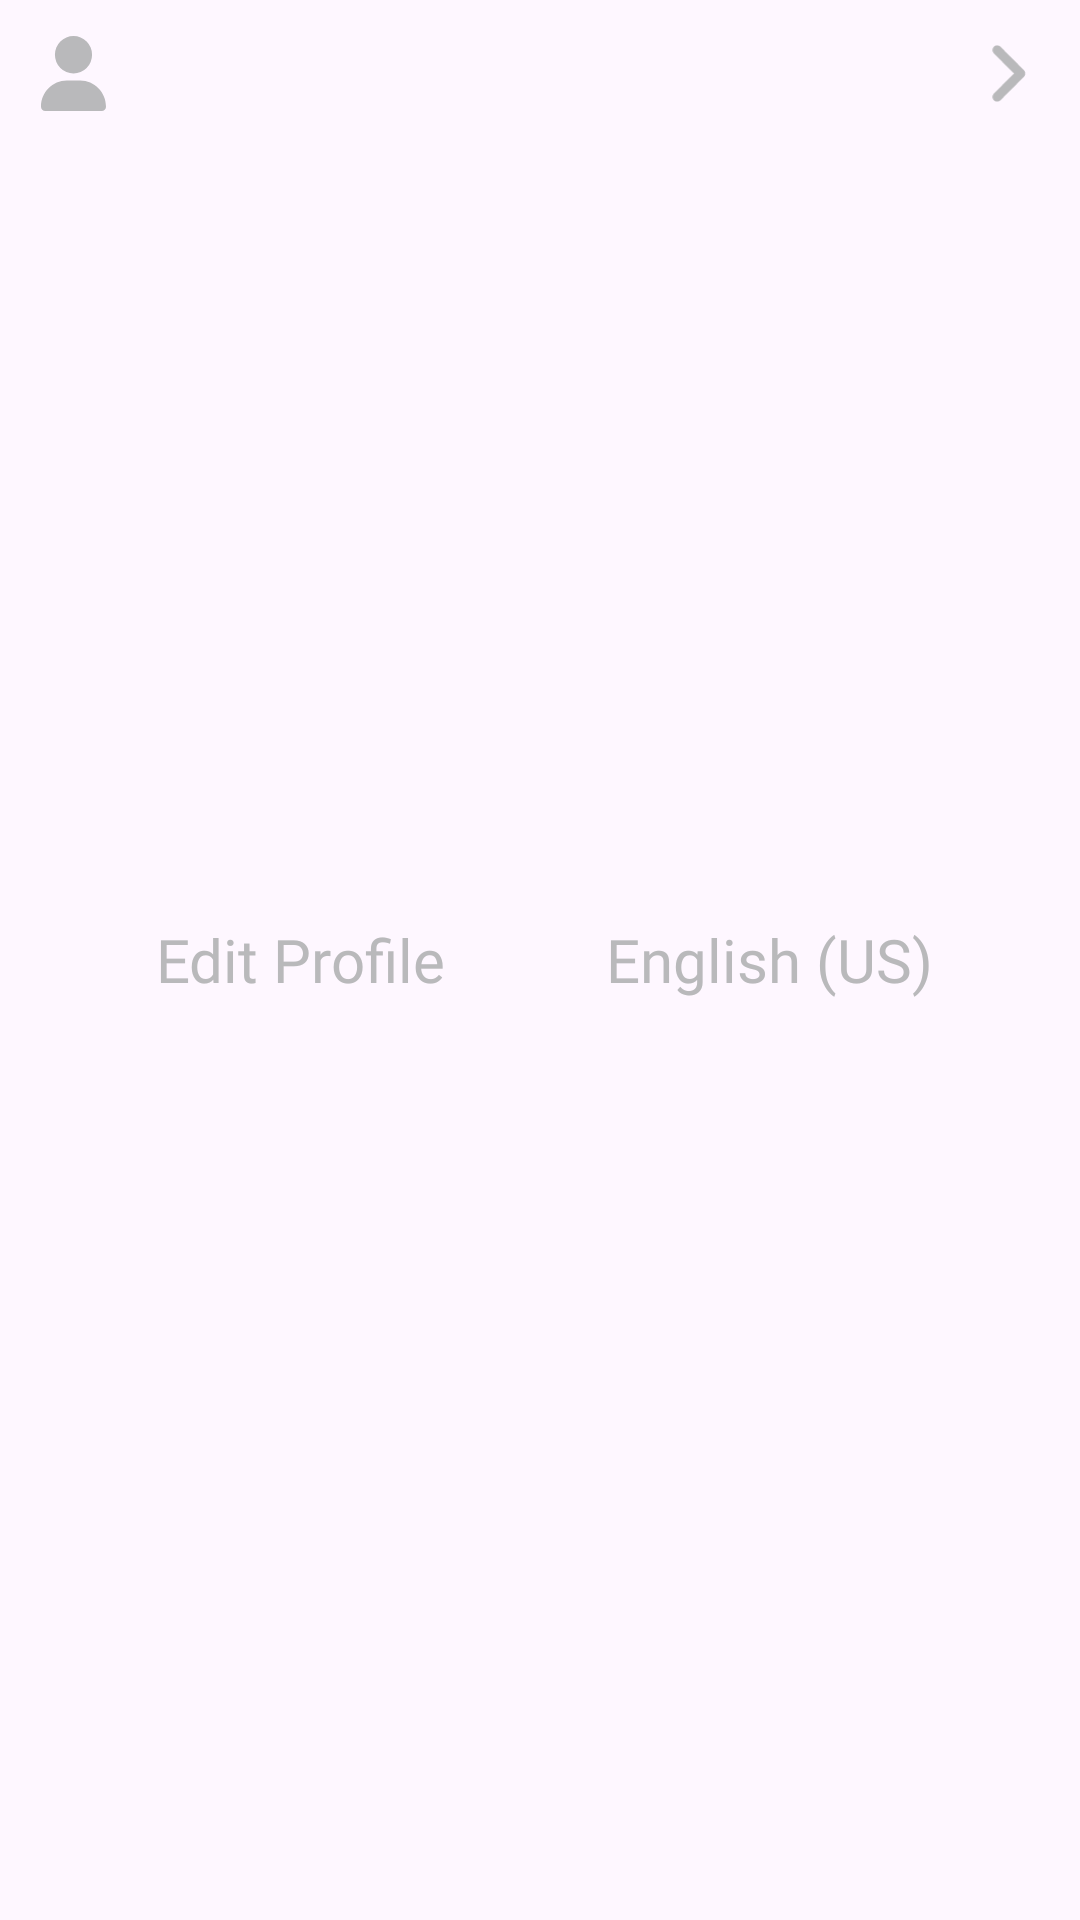

Named icons in this screenshot (1080w x 1920h) and their bounding boxes, (x1, y1, x2, y2):
angle right: (992, 45, 1025, 102)
user: (41, 36, 106, 111)
